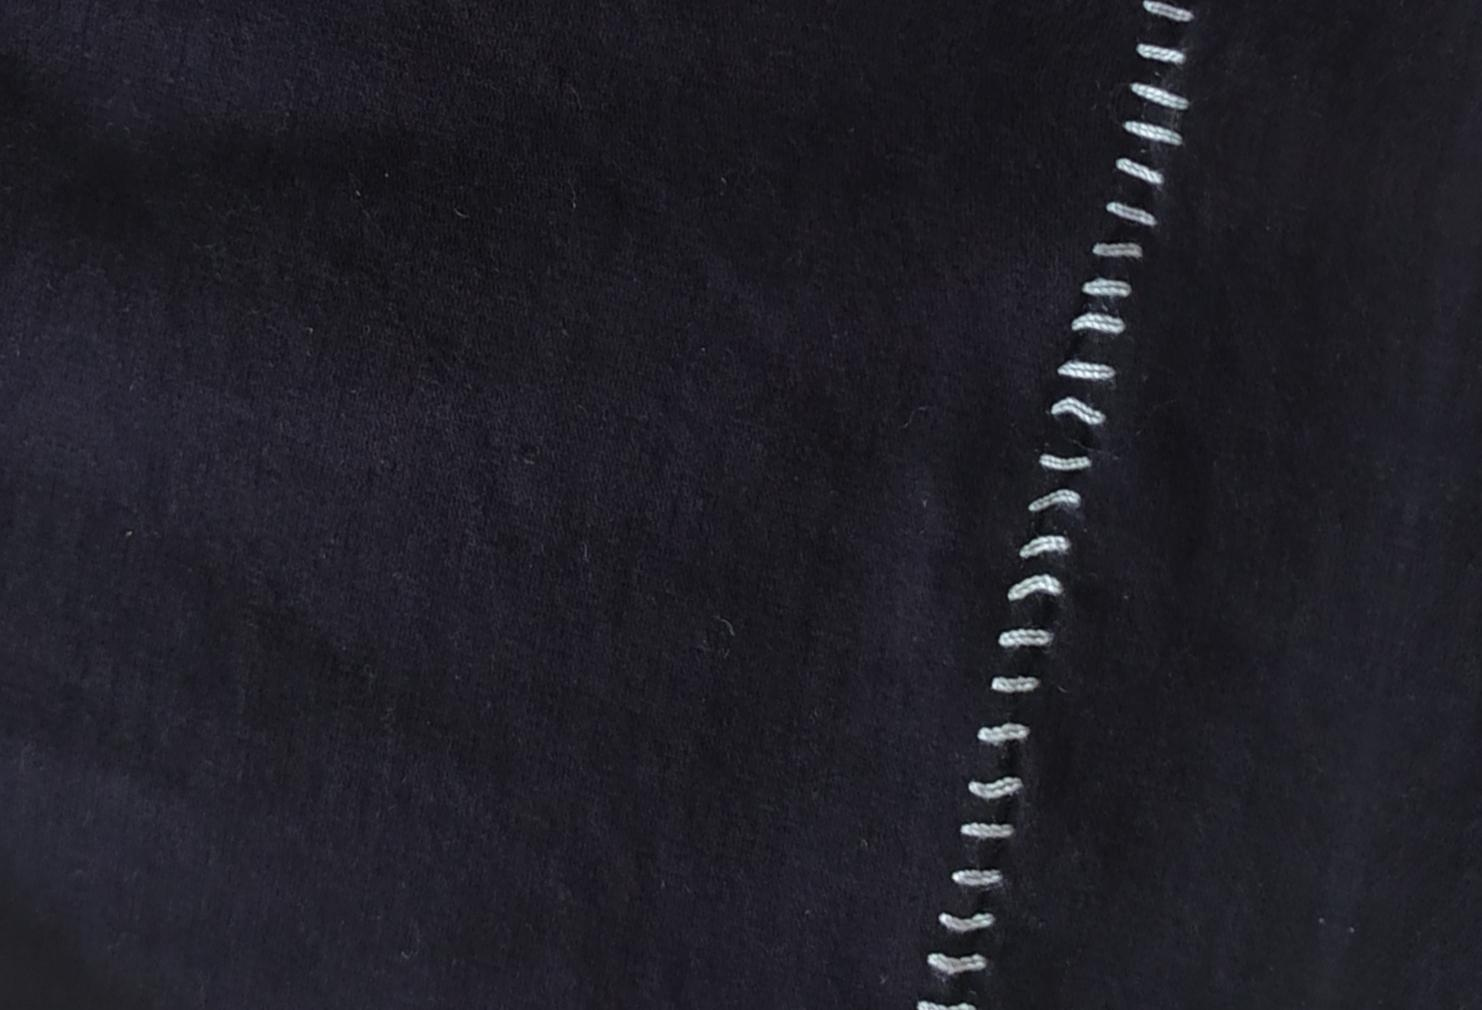slub: (911, 0, 1215, 1008)
